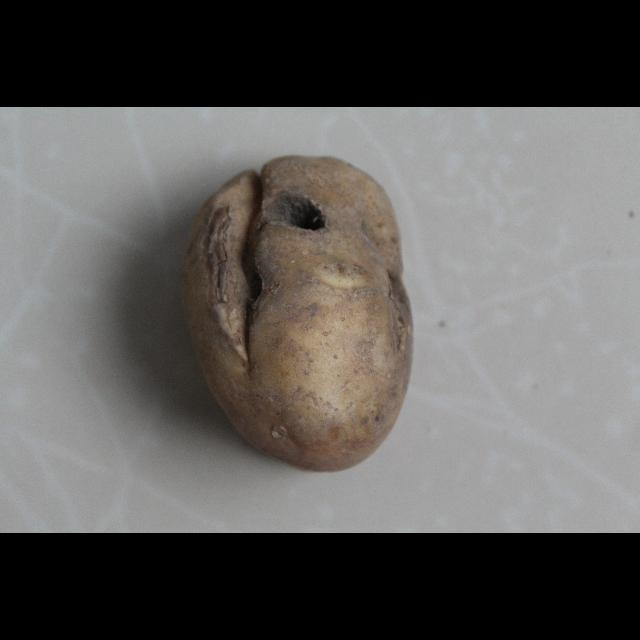Damaged potato: (180, 152, 418, 476)
